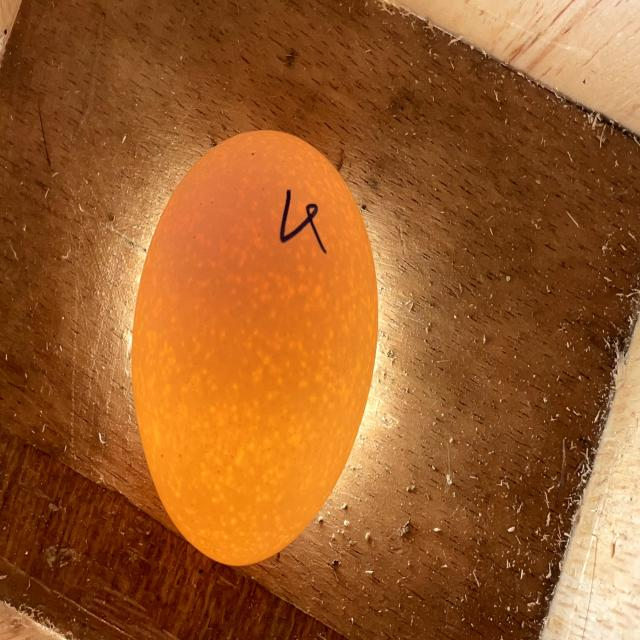infertile: (133, 132, 378, 565)
